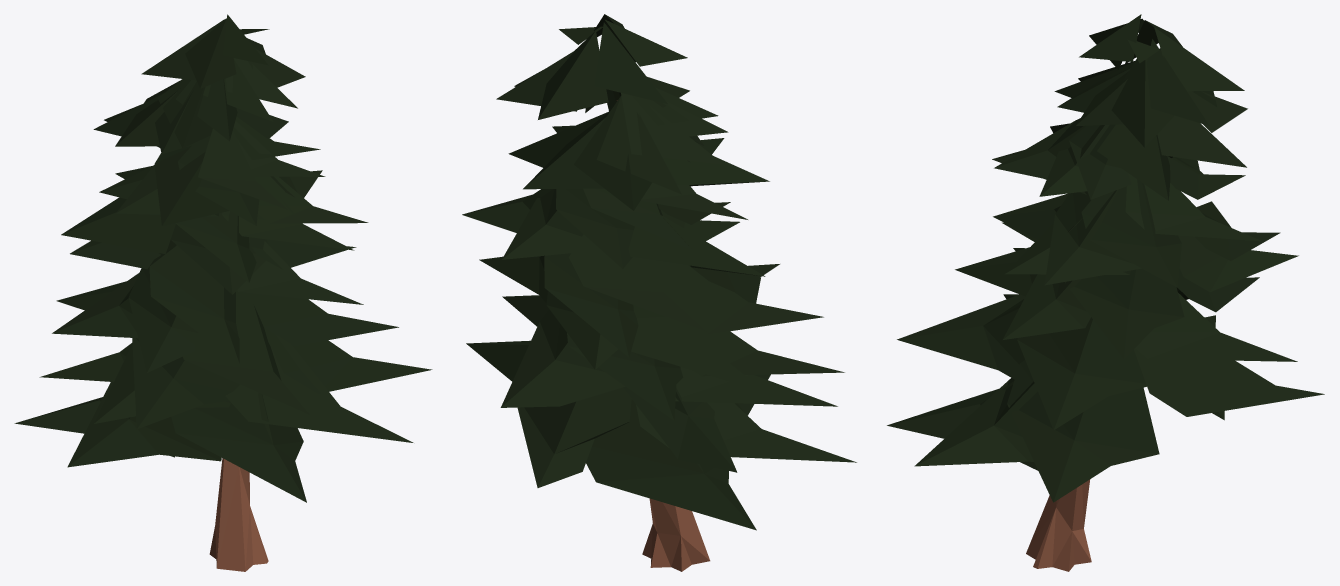
The model's file is pinefar.glb.
3 renders of one model, left to right at view 1: azimuth 30°, elevation 25°; view 2: azimuth 150°, elevation 25°; view 3: azimuth 270°, elevation 25°, orthographic. The views are drawn at different scales.
Parts seen in each view (by area): view 1: Pine_5; view 2: Pine_5; view 3: Pine_5.
Part boxes in pixels (x1,y1,x2,y2): Pine_5: (14, 14, 432, 571); Pine_5: (462, 14, 856, 571); Pine_5: (887, 14, 1324, 571).
Bounding box in the file's own units: 6.42 × 8.72 × 6.22.
